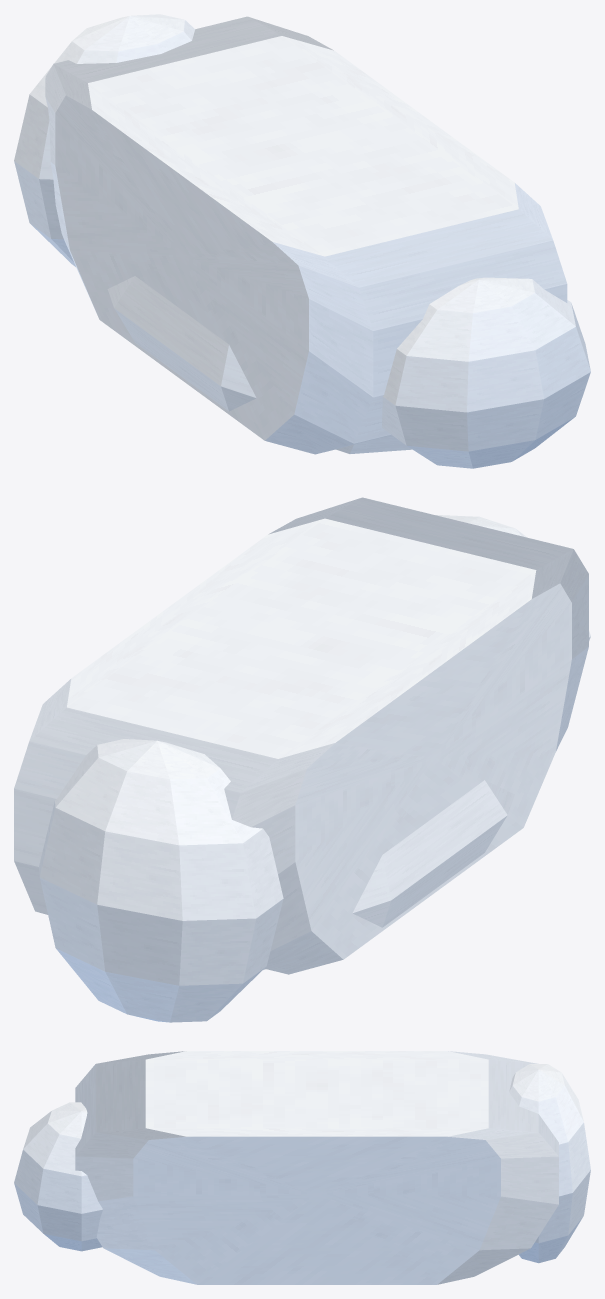
Rendered from Luna0RainbowNuvens3DFinal.glb.
3 views of the same model, one above another, from view 1: azimuth 30°, elevation 25°; view 2: azimuth 150°, elevation 25°; view 3: azimuth 270°, elevation 25° (orthographic). The views are drawn at different scales.
Parts seen in each view (by area): view 1: Setor_2, Setor_3; view 2: Setor_2, Setor_3; view 3: Setor_3, Setor_2.
Part boxes in pixels (x1,y1,x2,y2): Setor_2: (14,14,590,468); Setor_3: (248,16,590,369); Setor_2: (14,497,590,1022); Setor_3: (29,498,360,740); Setor_3: (37,1128,558,1284); Setor_2: (14,1051,590,1263).
Size of the model in its own units: 1.38 by 1.36 by 3.7.
1 material, 1 textured.
